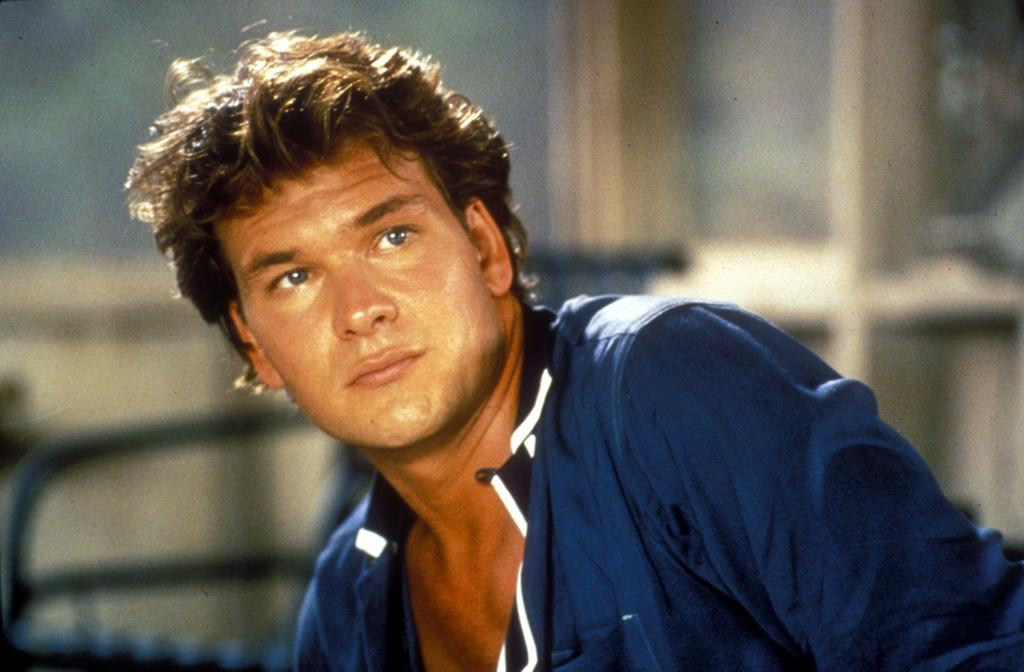face: (219, 171, 465, 449)
